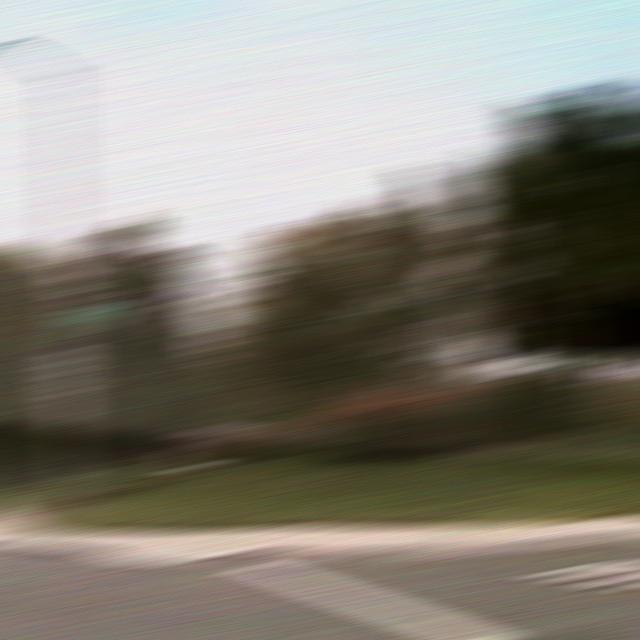speedLimit35: (41, 350, 90, 394)
